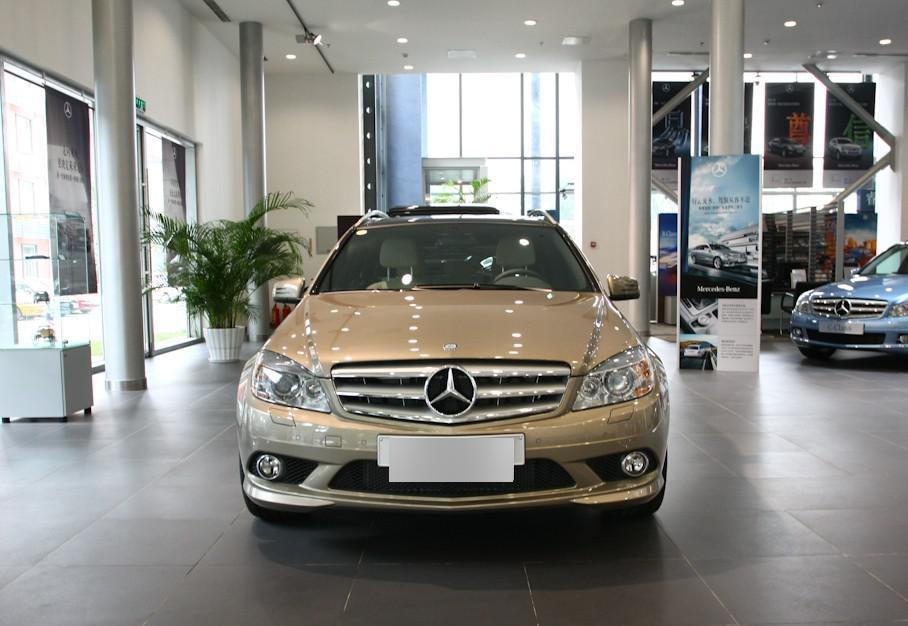Wagon: (236, 208, 671, 527)
